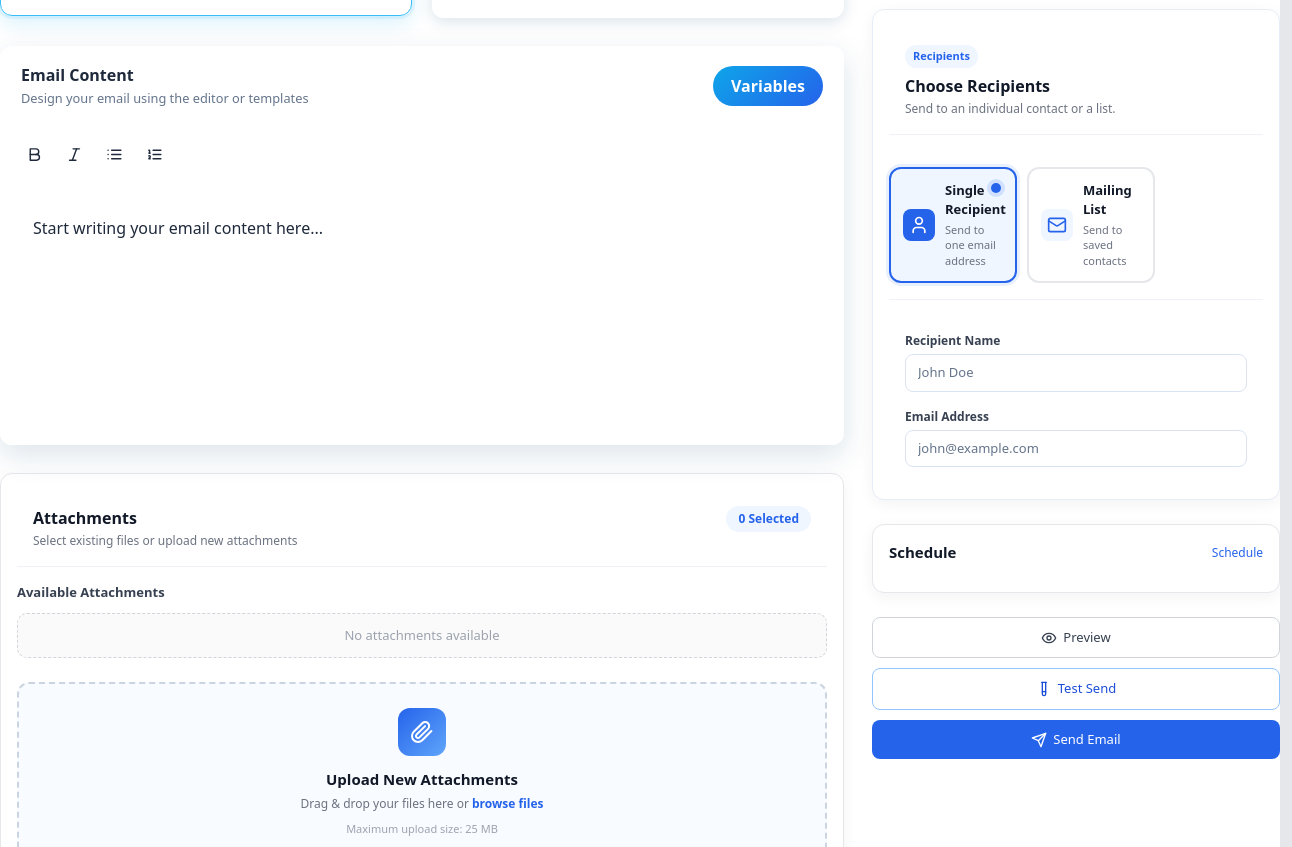
Scenario: Compose page › schedule toggle updates submit button label
The image size is (1292, 847).
(page scrolled)
Expected: the button "Send Email" is shown, [872,720,1280,759]
Click the button "Schedule" at (1237, 553), box [1212,544,1263,562]
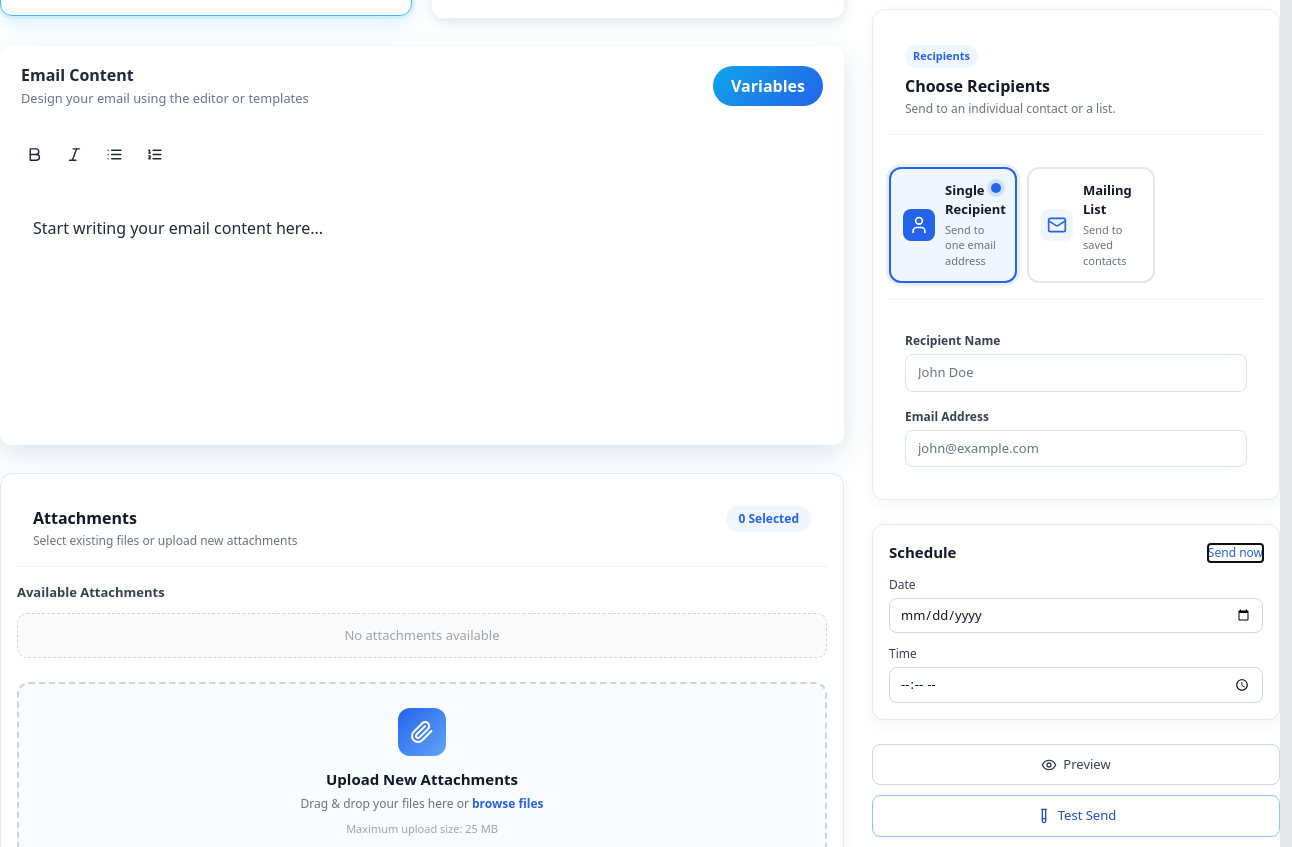
Click the button "Send now" at (1235, 553), box [1208,544,1263,562]
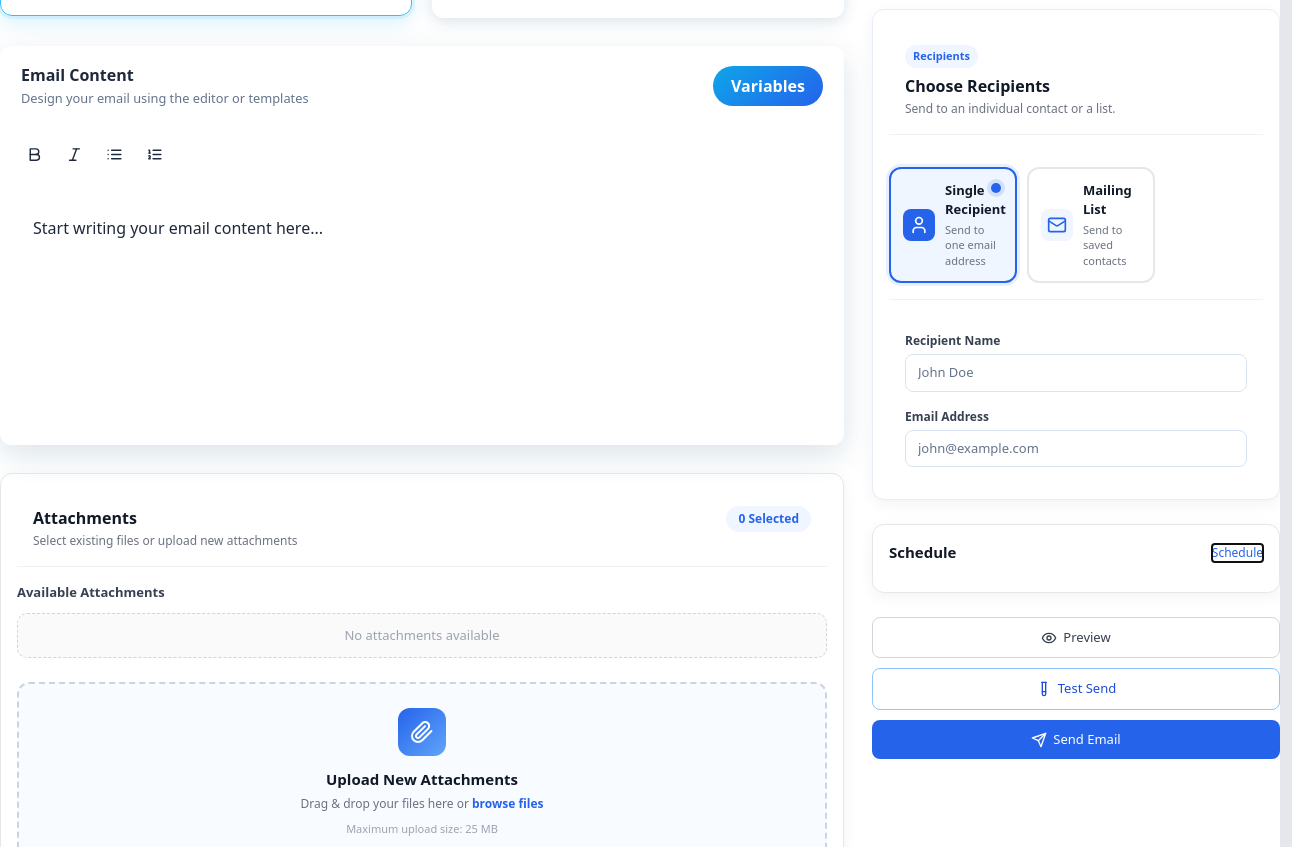
Expected: the button "Send Email" is shown, [872,720,1280,759]
